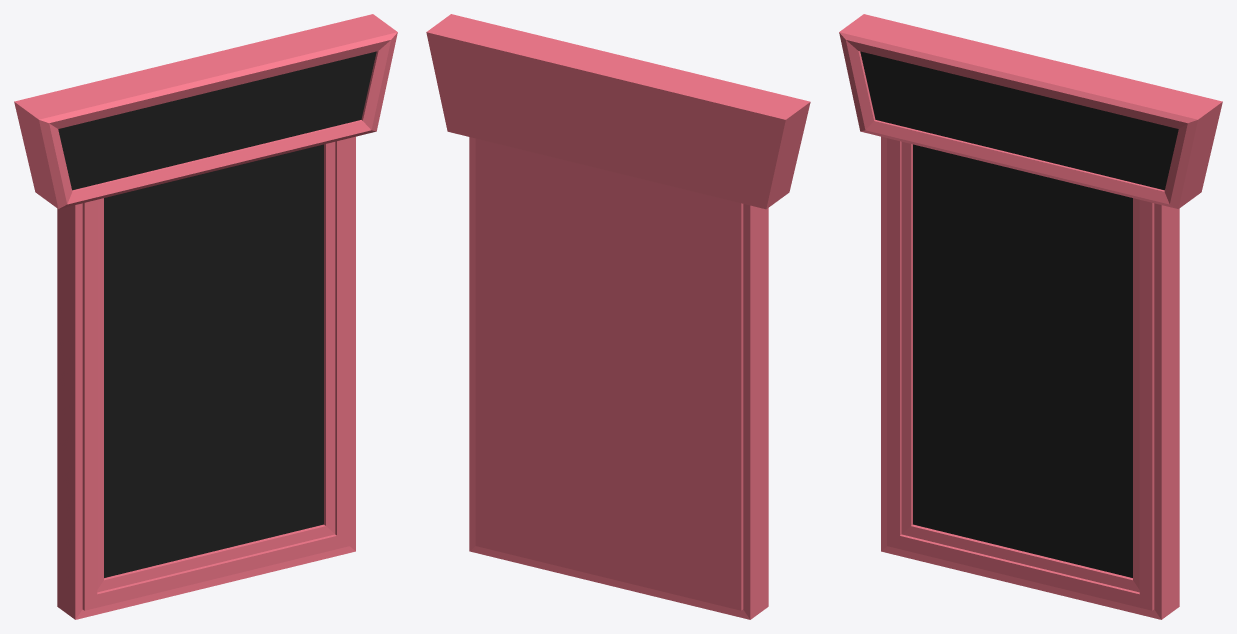
Rendered from Leaderboard-low.fbx.
3 renders of one model, left to right at view 1: azimuth 30°, elevation 25°; view 2: azimuth 150°, elevation 25°; view 3: azimuth 330°, elevation 25°, orthographic.
Parts seen in each view (by area): view 1: Cube.001, Cube.040; view 2: Cube.040; view 3: Cube.001, Cube.040.
Boxes of the visible parts, x1=… form: Cube.001: x1=58, y1=51, x2=376, y2=577; Cube.040: x1=14, y1=14, x2=397, y2=619; Cube.040: x1=426, y1=14, x2=810, y2=619; Cube.001: x1=860, y1=51, x2=1178, y2=577; Cube.040: x1=839, y1=14, x2=1222, y2=619.
Bounding box in the file's own units: 25.63 × 34.91 × 3.29.
